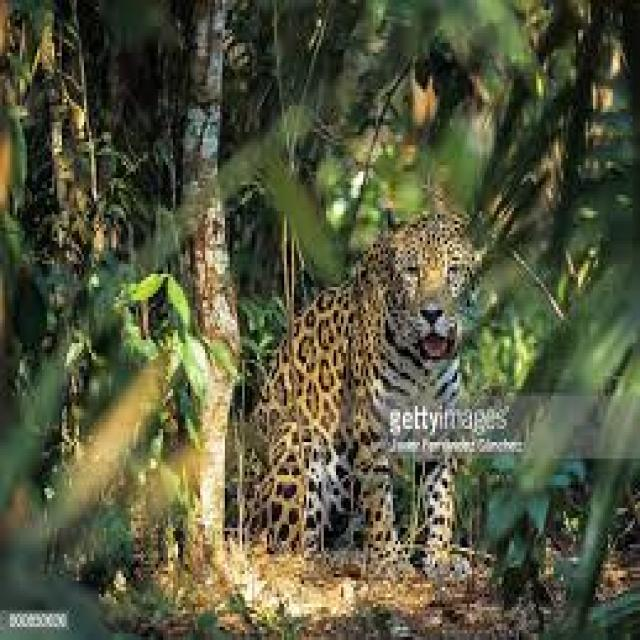Jaguar: (250, 208, 484, 587)
